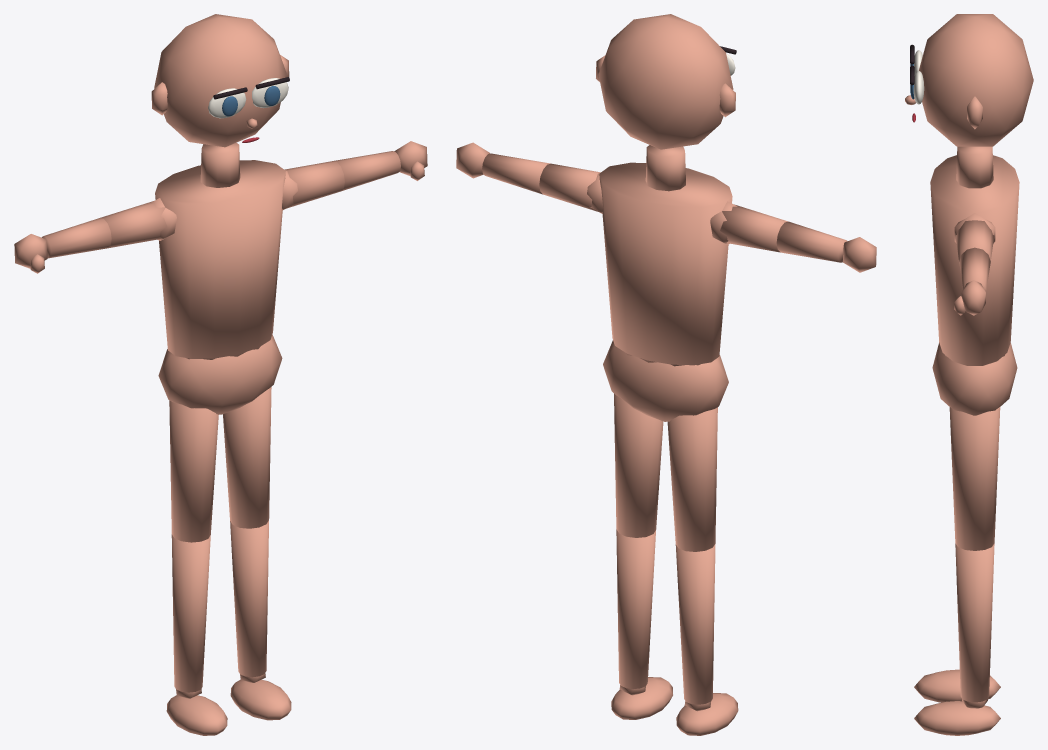
Rendered from nene_base_tpose.glb.
3 renders of one model, left to right at view 1: azimuth 30°, elevation 25°; view 2: azimuth 150°, elevation 25°; view 3: azimuth 270°, elevation 25°, orthographic.
Visible parts, largest first — view 1: Body_Torso, Head, L_Thigh, Body_Pelvis, R_Thigh, L_Shin, R_Shin, L_UpperArm, R_Foot, L_Foot, L_Forearm, R_UpperArm (+4 smaller); view 2: Body_Torso, Head, L_Thigh, Body_Pelvis, R_Thigh, L_Shin, R_Shin, L_UpperArm, L_Forearm, R_UpperArm, L_Foot, R_Foot (+4 smaller); view 3: Body_Torso, Head, R_Thigh, R_Shin, Body_Pelvis, R_Foot, Neck, L_Foot, R_UpperArm, R_Forearm, R_Hand, R_Ear (+2 smaller).
Boxes of the visible parts, left/top/right/bottom form: Body_Torso: left=155, top=160, right=285, bottom=358; Head: left=154, top=14, right=286, bottom=147; L_Thigh: left=169, top=400, right=218, bottom=542; Body_Pelvis: left=158, top=334, right=282, bottom=414; R_Thigh: left=223, top=387, right=271, bottom=528; L_Shin: left=171, top=534, right=210, bottom=692; R_Shin: left=230, top=520, right=268, bottom=677; L_UpperArm: left=100, top=201, right=167, bottom=248; R_Foot: left=230, top=679, right=291, bottom=720; L_Foot: left=166, top=695, right=227, bottom=735; L_Forearm: left=42, top=218, right=111, bottom=258; R_UpperArm: left=284, top=161, right=344, bottom=208; Body_Torso: left=599, top=162, right=732, bottom=365; Head: left=598, top=14, right=733, bottom=149; L_Thigh: left=667, top=407, right=717, bottom=551; Body_Pelvis: left=603, top=340, right=728, bottom=421; R_Thigh: left=614, top=393, right=663, bottom=537; L_Shin: left=675, top=544, right=715, bottom=704; R_Shin: left=616, top=529, right=655, bottom=688; L_UpperArm: left=720, top=204, right=787, bottom=252; L_Forearm: left=776, top=221, right=847, bottom=262; R_UpperArm: left=539, top=163, right=600, bottom=212; L_Foot: left=676, top=693, right=738, bottom=735; R_Foot: left=611, top=677, right=672, bottom=719; Body_Torso: left=930, top=155, right=1019, bottom=365; Head: left=919, top=14, right=1033, bottom=146; R_Thigh: left=949, top=407, right=1000, bottom=550; R_Shin: left=955, top=543, right=994, bottom=702; Body_Pelvis: left=932, top=342, right=1017, bottom=415; R_Foot: left=914, top=701, right=1000, bottom=735; Neck: left=956, top=146, right=993, bottom=188; L_Foot: left=914, top=669, right=1000, bottom=702; R_UpperArm: left=955, top=220, right=994, bottom=261; R_Forearm: left=959, top=247, right=990, bottom=291; R_Hand: left=961, top=280, right=985, bottom=315; R_Ear: left=967, top=96, right=982, bottom=129.
Bounding box in the file's own units: 4.38 × 7.08 × 1.18.
